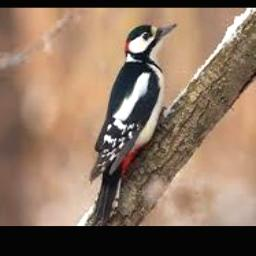Woodpecker: (90, 22, 178, 226)
